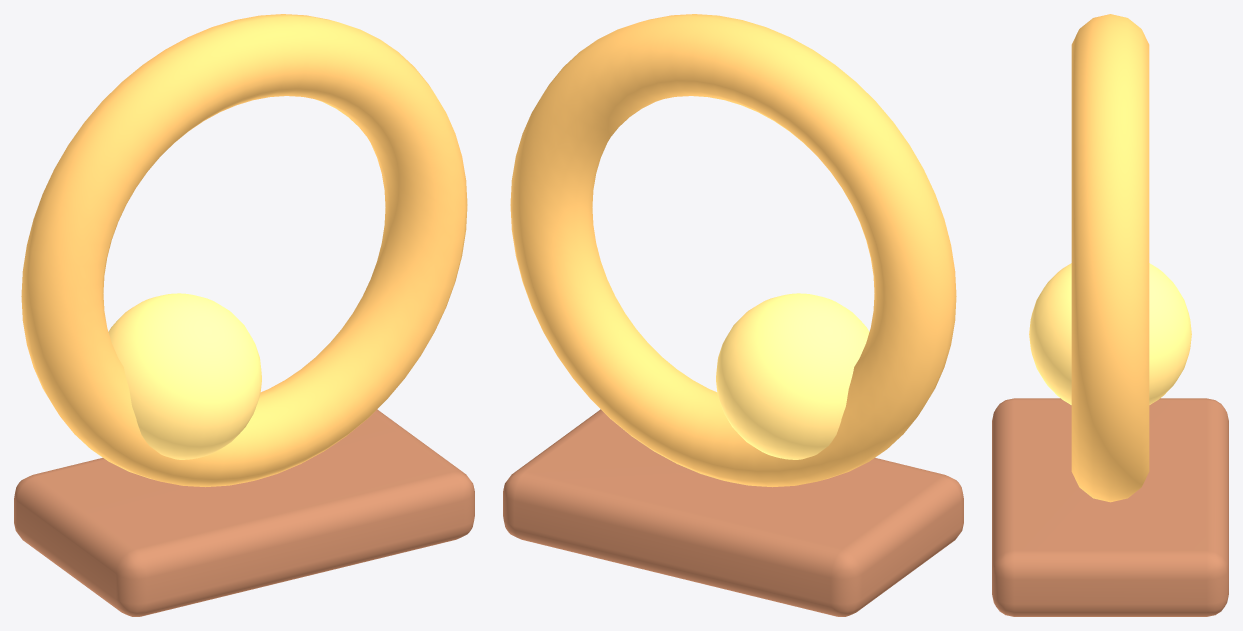
The model's file is oculus.glb.
3 views of the same model, side by side, from view 1: azimuth 30°, elevation 25°; view 2: azimuth 150°, elevation 25°; view 3: azimuth 270°, elevation 25° (orthographic). The views are drawn at different scales.
Parts seen in each view (by area): view 1: oculus; view 2: oculus; view 3: oculus.
Part boxes in pixels (bbox=[...]): oculus: bbox=[14, 14, 474, 616]; oculus: bbox=[503, 14, 963, 616]; oculus: bbox=[992, 14, 1228, 616].
Bounding box in the file's own units: 0.33 × 0.375 × 0.16.
